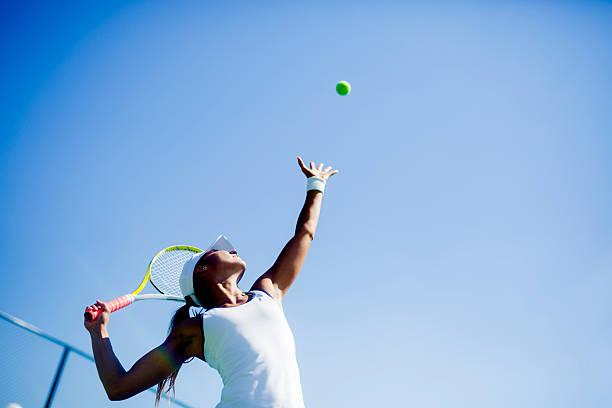ball_tennis: (335, 81, 351, 98)
